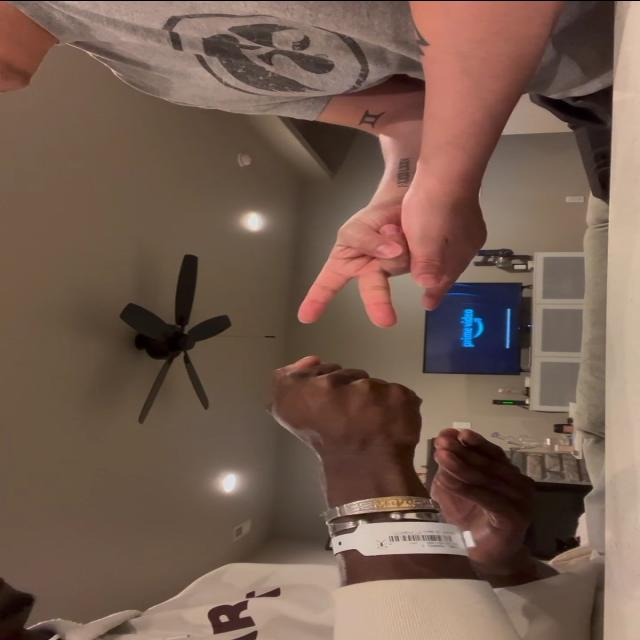Rock: (264, 352, 426, 448)
Scissors: (296, 203, 418, 327)
